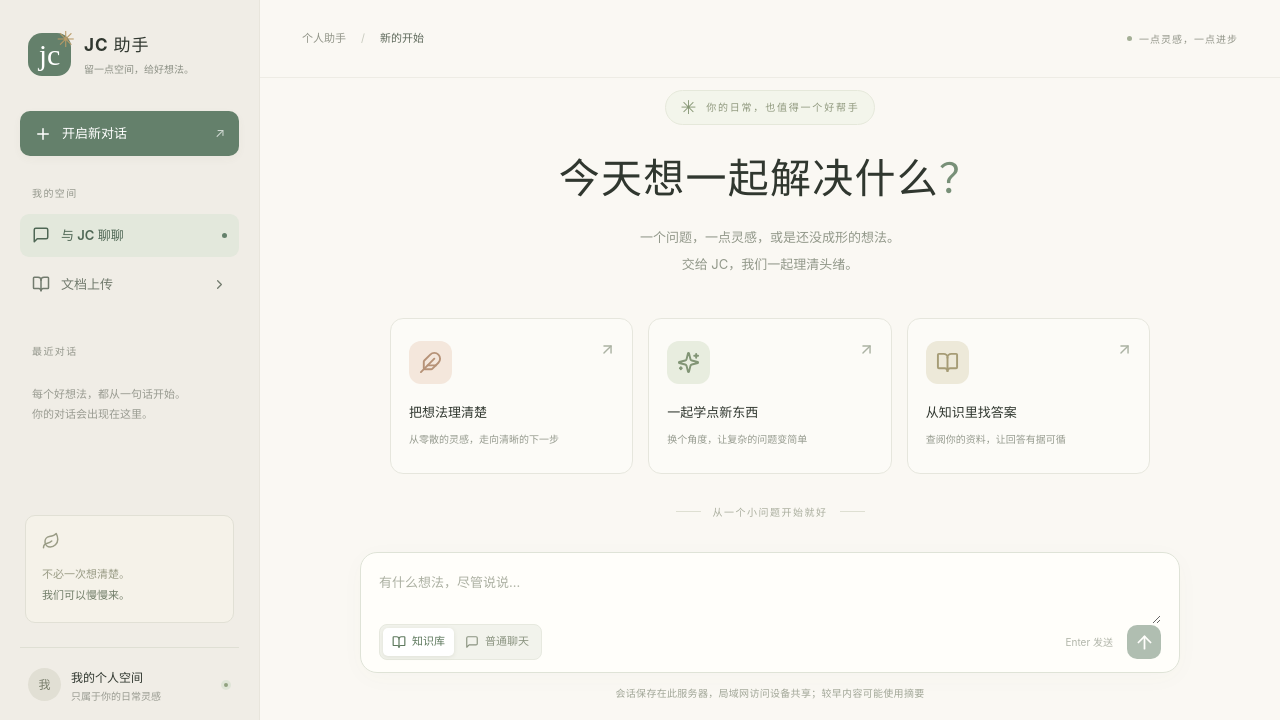
it: 服务器多轮会话 › 响应丢失但服务器完成时恢复答案，不重新生成
Step 1. Type "测试问题" into the text box named "输入问题" → (770, 597), box [379,569,1161,624]
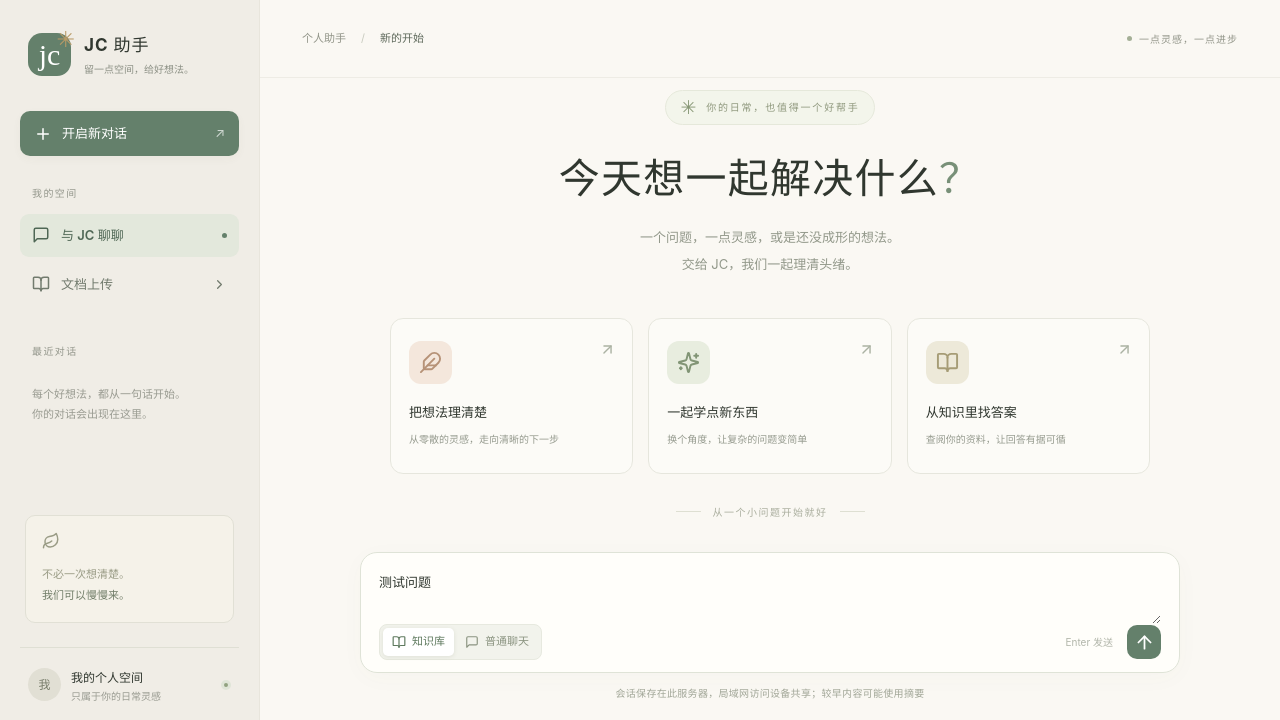
Step 2. Click the button named "发送问题" → (1144, 642), box [1127,625,1161,659]
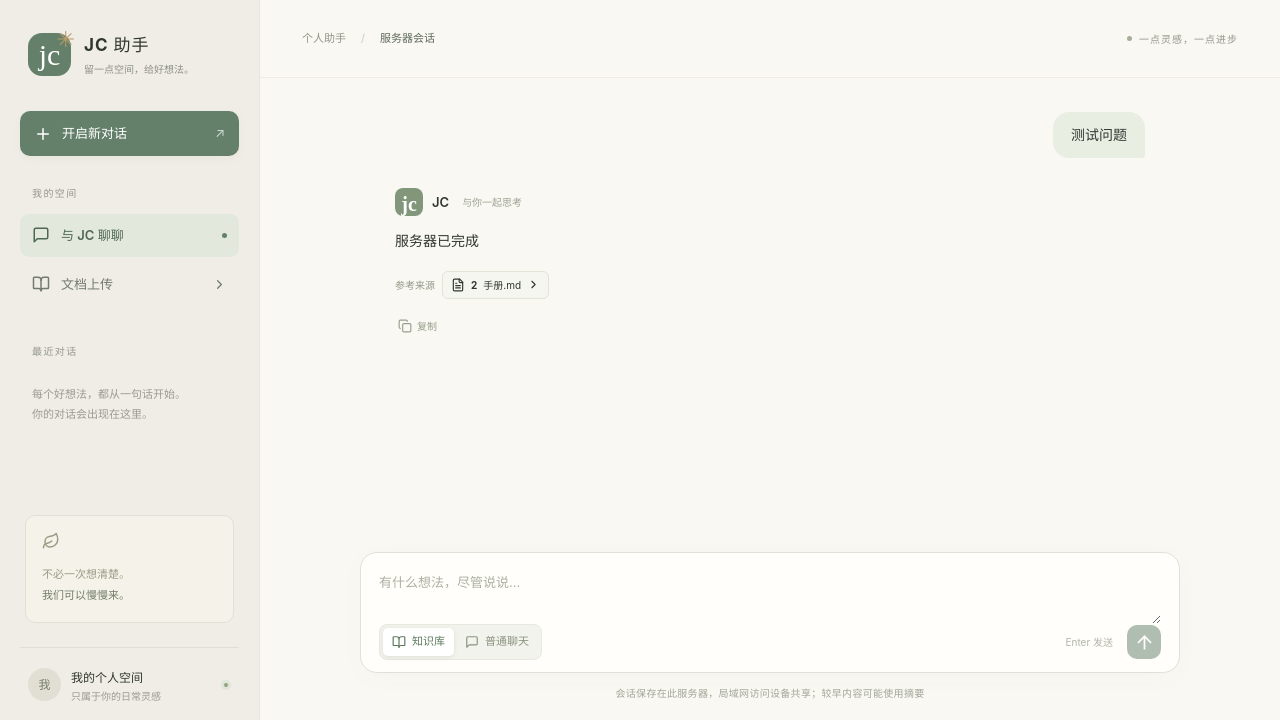
Result: the text "服务器已完成" is shown at [395,232,479,249]
